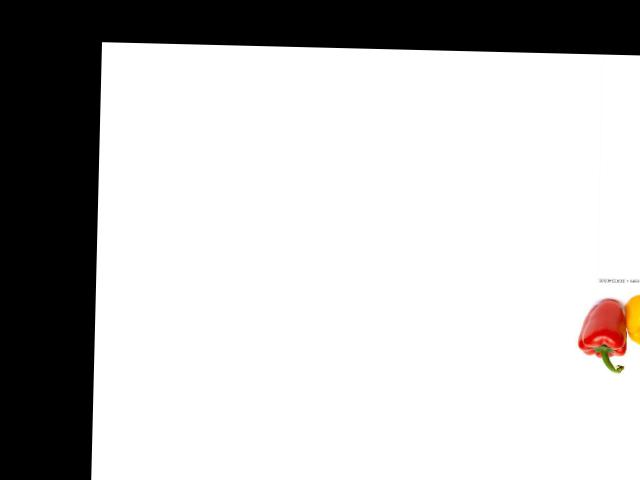bell_pepper: (622, 286, 640, 351)
